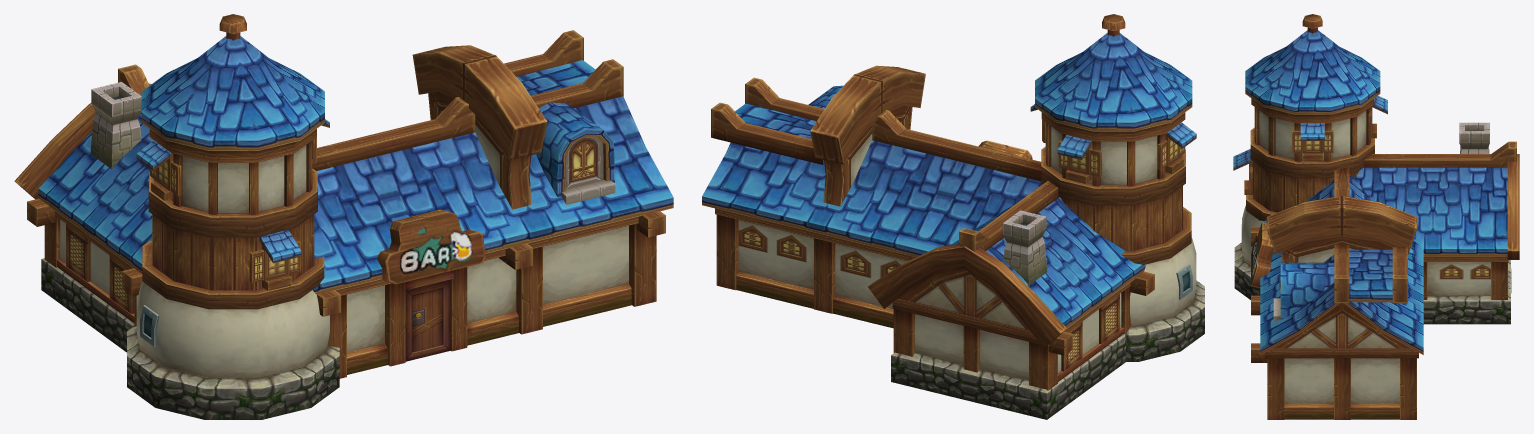
Rendered from Vinoy_fangzi004.FBX.
The picture shows the model from 3 angles, left to right: view 1: azimuth 30°, elevation 25°; view 2: azimuth 150°, elevation 25°; view 3: azimuth 270°, elevation 25°; orthographic projection. The views are drawn at different scales.
Visible parts, largest first — view 1: fangzi04; view 2: fangzi04; view 3: fangzi04.
Part boxes in pixels (x1,y1,x2,y2): fangzi04: [14, 14, 673, 419]; fangzi04: [702, 14, 1204, 419]; fangzi04: [1233, 14, 1519, 419].
Bounding box in the file's own units: 135 × 92.57 × 91.7.
